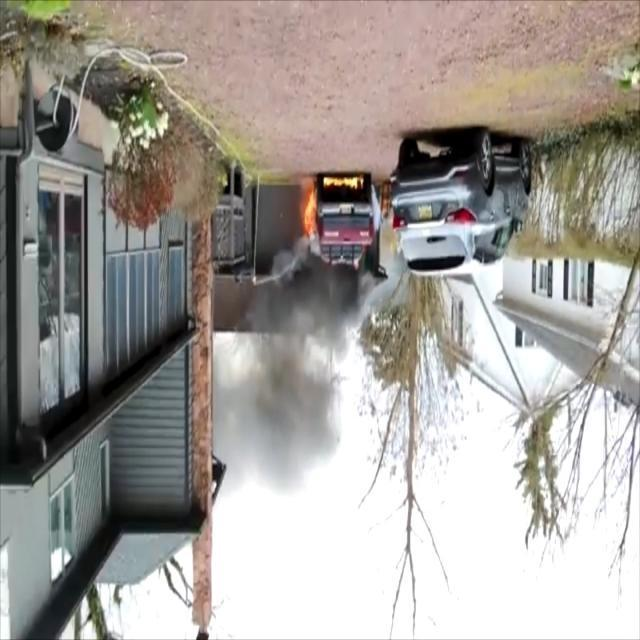fire: (300, 180, 320, 248), (319, 174, 372, 193)
